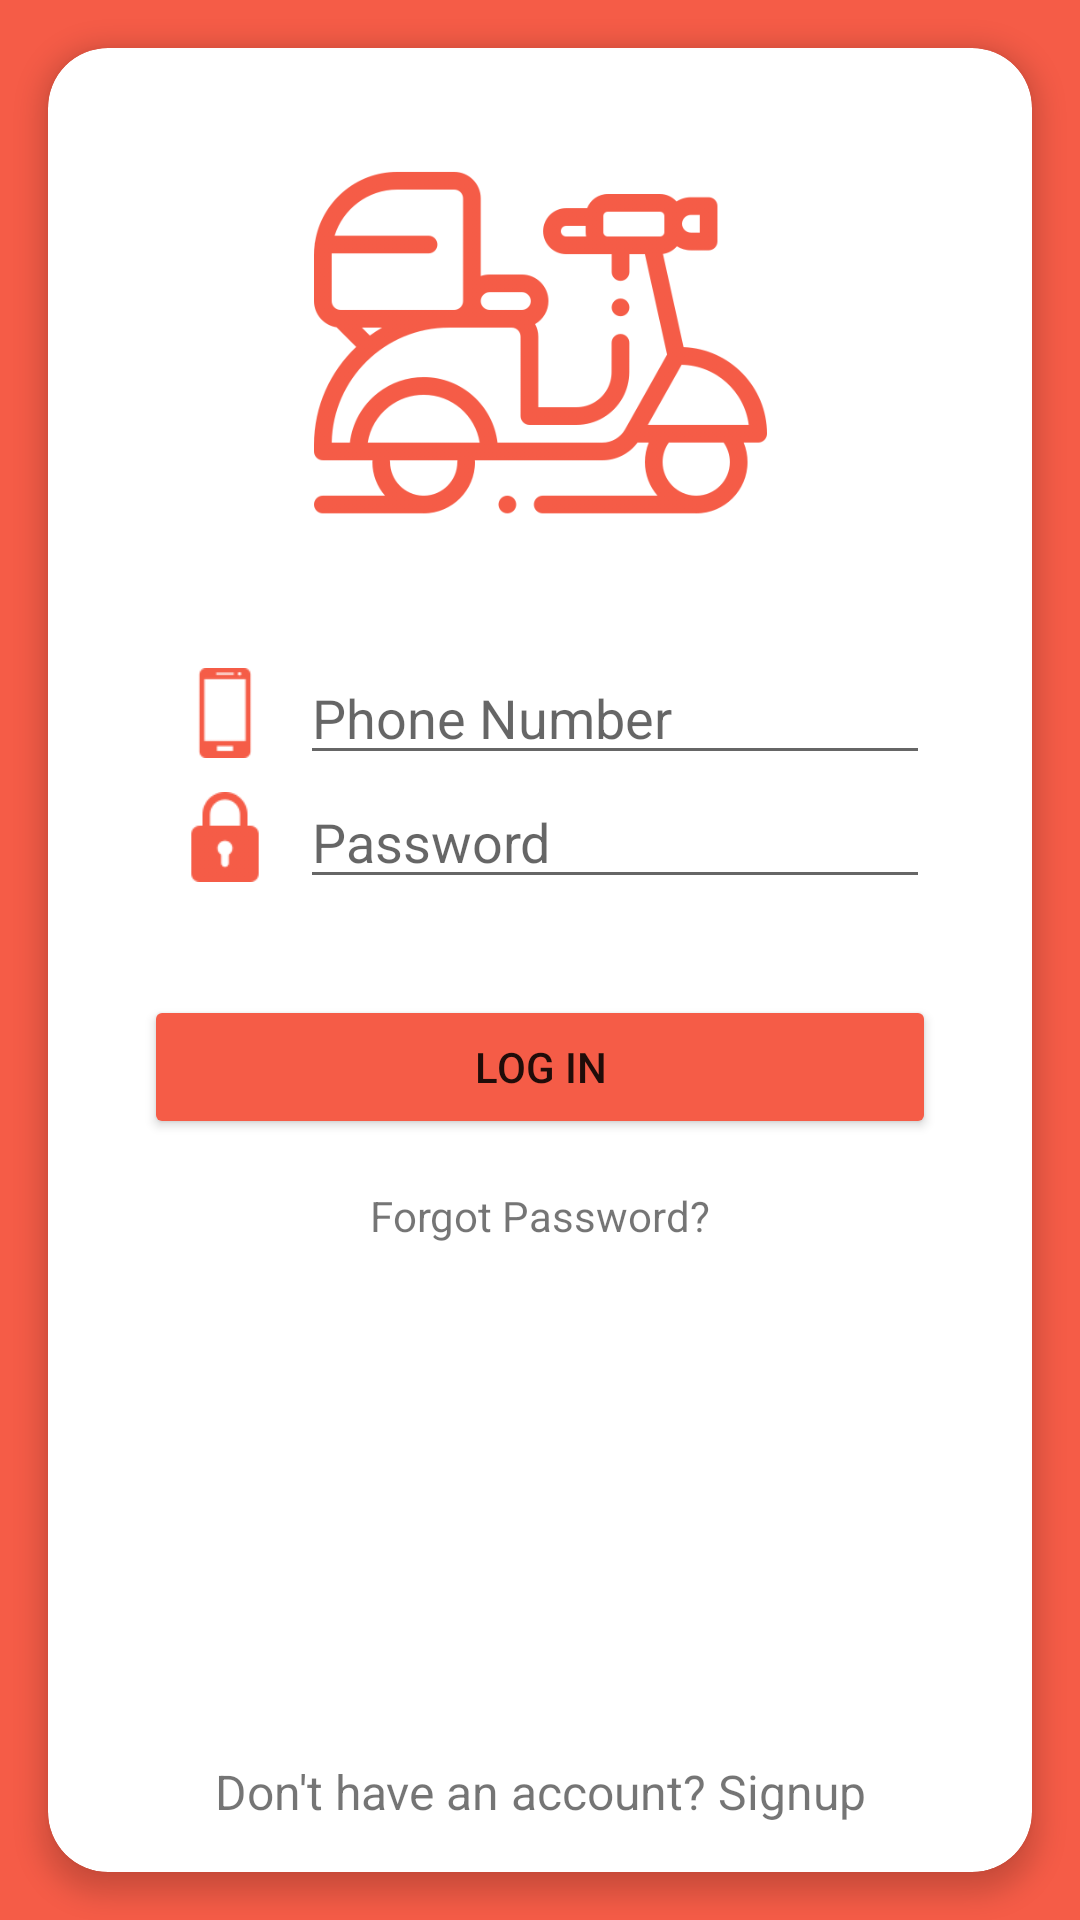

Named icons in this screenshot (1080*1920) and their bounding boxes, detection(x1, y1, x2, y2):
padlock: detection(191, 792, 259, 882)
smartphone: detection(199, 668, 251, 758)
